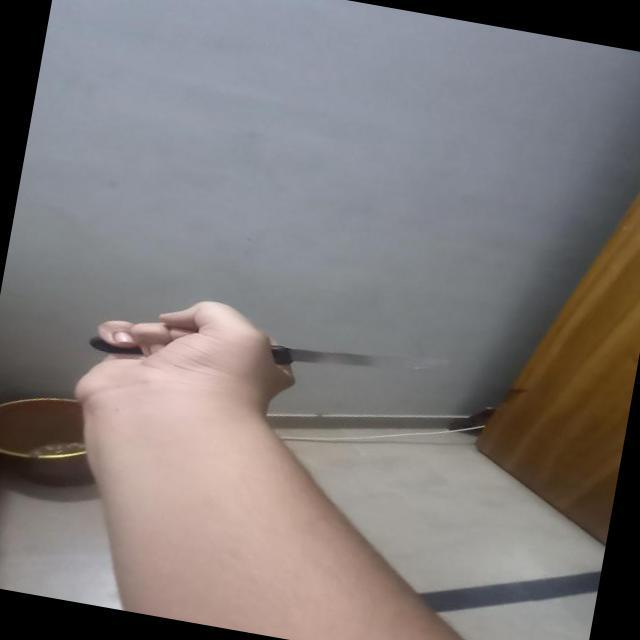Knife: (68, 290, 450, 412)
